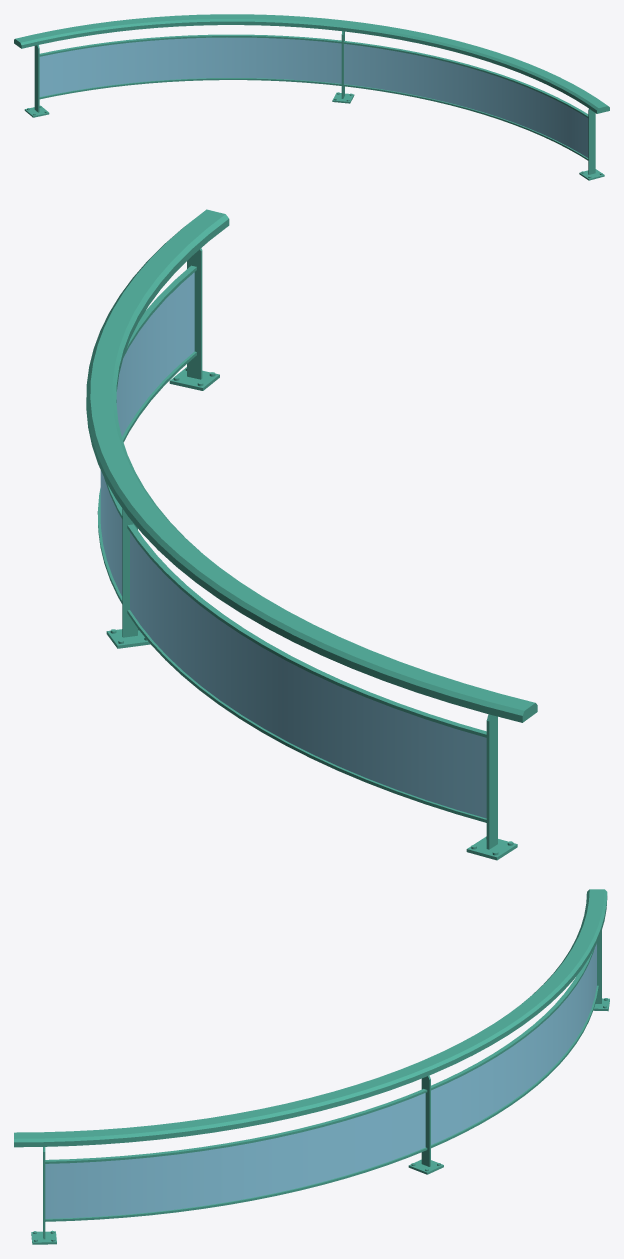
File: Fence_02.FBX
3 views of the same model, one above another, from view 1: azimuth 30°, elevation 25°; view 2: azimuth 150°, elevation 25°; view 3: azimuth 270°, elevation 25° (orthographic). The views are drawn at different scales.
Parts seen in each view (by area): view 1: Fence_02; view 2: Fence_02; view 3: Fence_02.
Boxes of the visible parts, x1=… form: Fence_02: x1=14, y1=14, x2=609, y2=180; Fence_02: x1=86, y1=209, x2=537, y2=860; Fence_02: x1=14, y1=889, x2=609, y2=1244.
Size of the model in its own units: 7 by 1.34 by 7.
